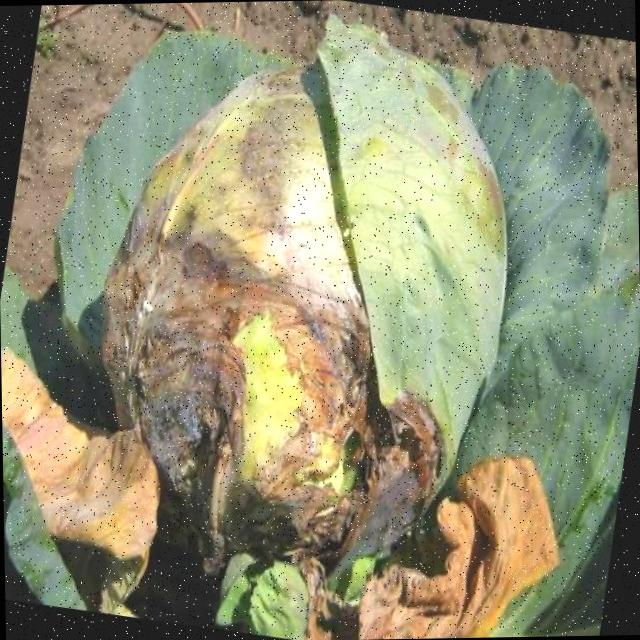Septoria_Blight: (54, 0, 542, 608)
